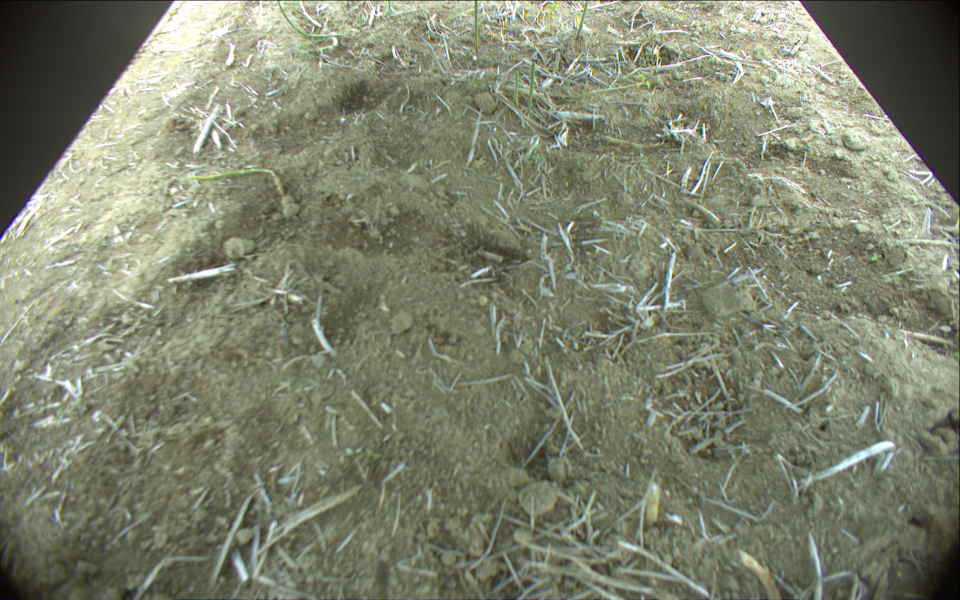aspa: (273, 1, 351, 43), (191, 169, 288, 200), (520, 81, 649, 97), (575, 1, 591, 43), (526, 63, 538, 114), (472, 1, 482, 54), (513, 69, 520, 110), (357, 7, 365, 32), (386, 1, 394, 19)
